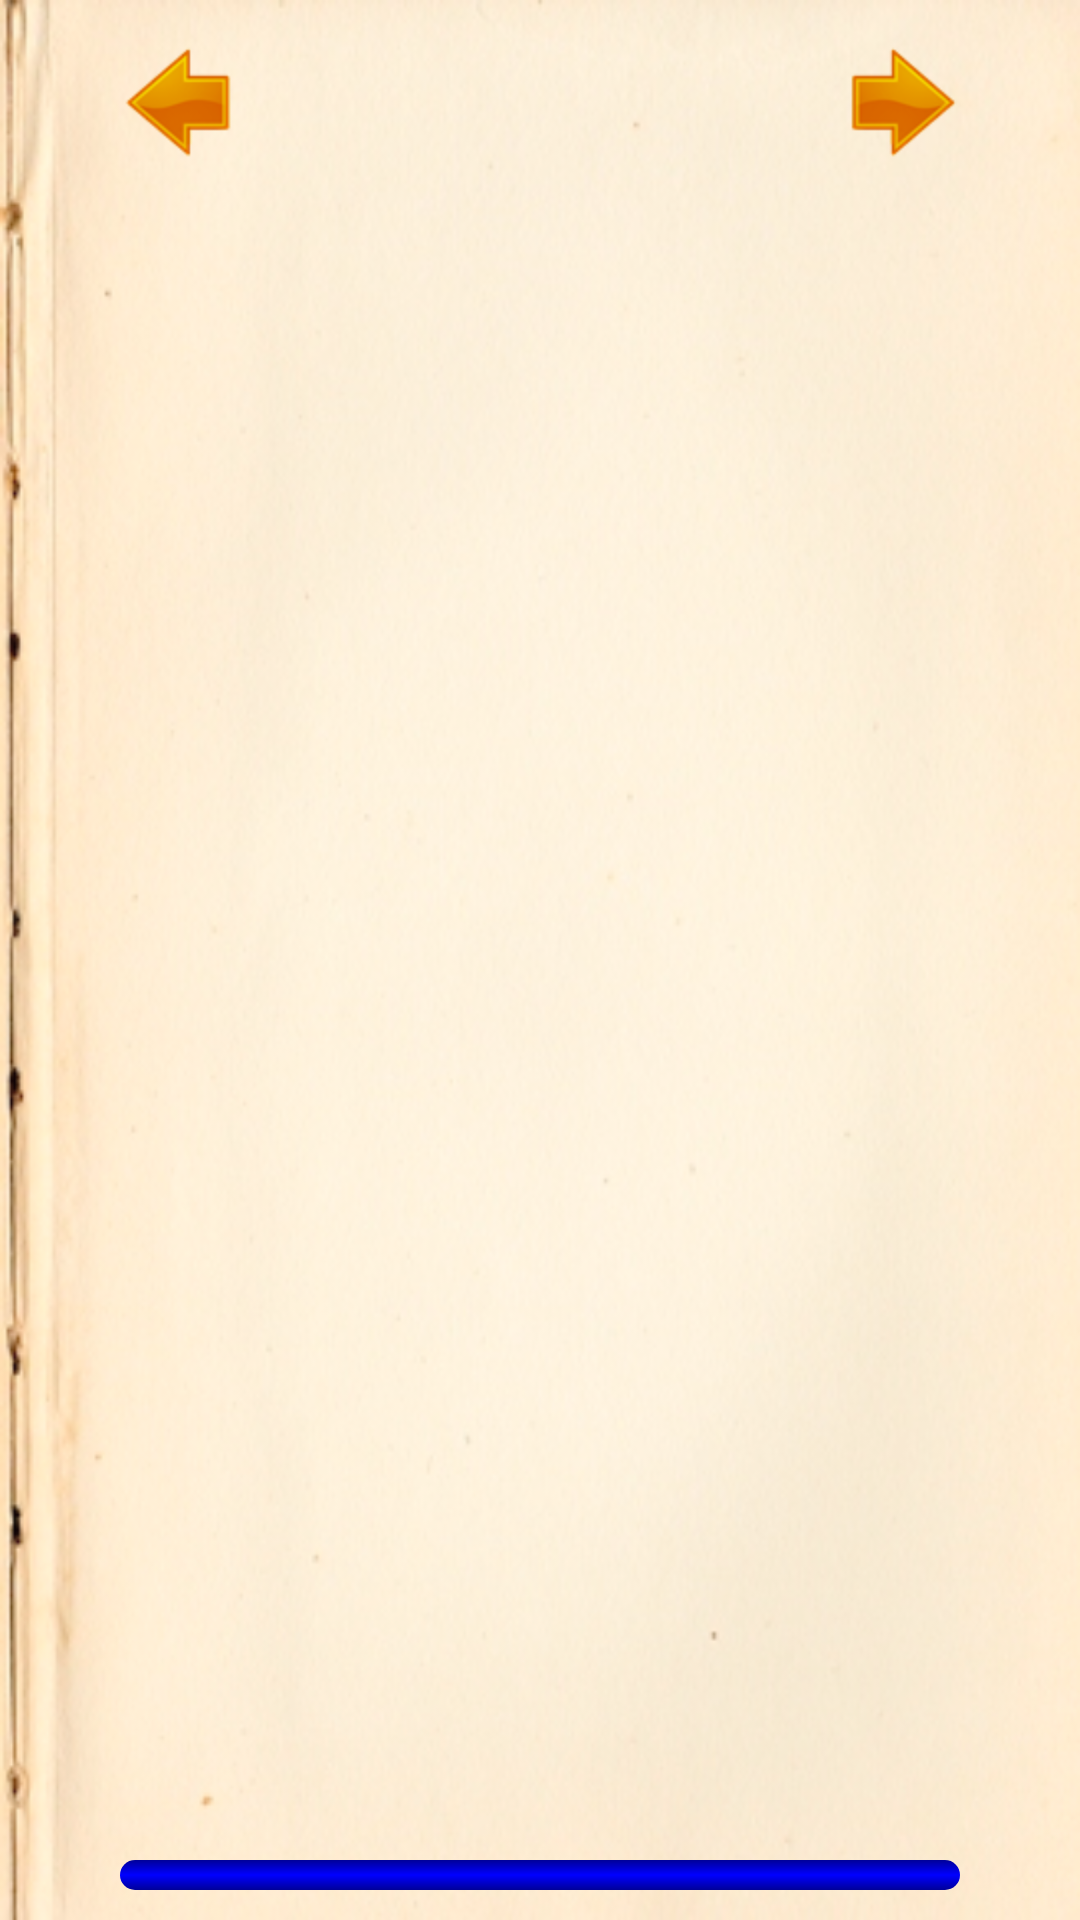

Point at icon controls on the screen. Image size 1080 × 1920, points as (x,y).
next: (903,102)
previous: (146,111)
